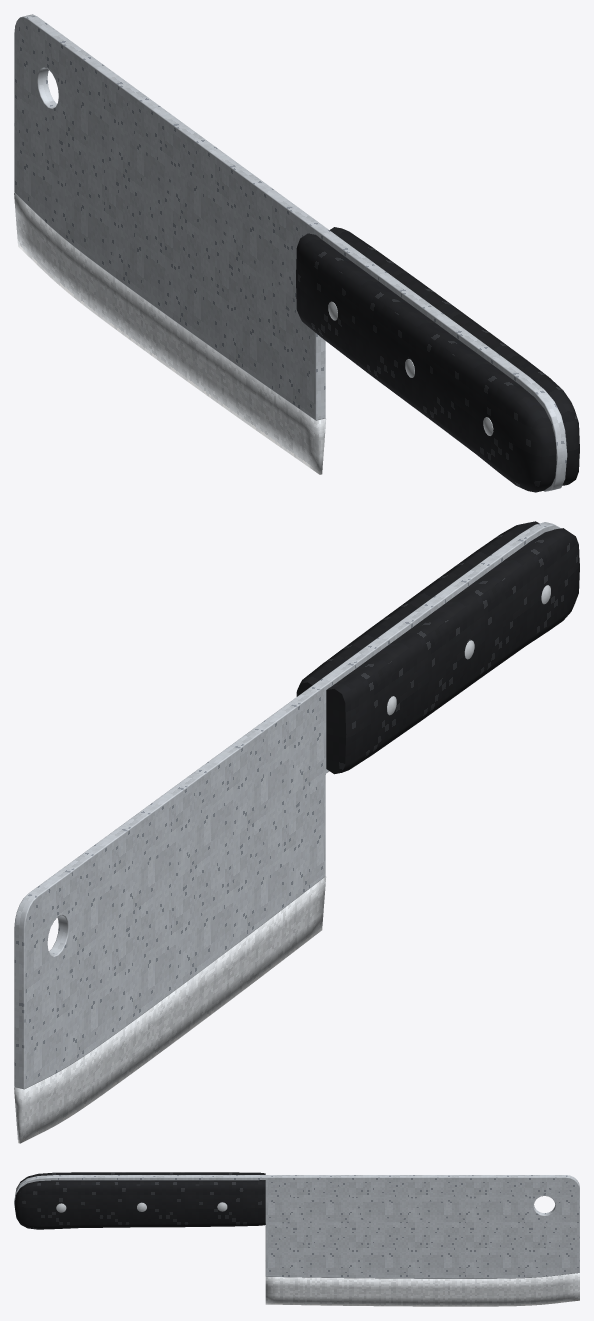
File: w_knife_cleaver.glb
3 renders of one model, top to bottom at view 1: azimuth 30°, elevation 25°; view 2: azimuth 150°, elevation 25°; view 3: azimuth 270°, elevation 25°, orthographic. The views are drawn at different scales.
Visible parts, largest first — view 1: kcleaver_blade_wzB, kcleaver_grip_wzA; view 2: kcleaver_blade_wzB, kcleaver_grip_wzA; view 3: kcleaver_blade_wzB, kcleaver_grip_wzA, kcleaver_rivets_wzN.
Boxes of the visible parts, x1,y1,x2,y2 form: kcleaver_blade_wzB: (14,14,567,491); kcleaver_grip_wzA: (296,227,579,492); kcleaver_blade_wzB: (14,522,560,1143); kcleaver_grip_wzA: (296,521,579,774); kcleaver_blade_wzB: (14,1175,579,1306); kcleaver_grip_wzA: (15,1172,265,1229); kcleaver_rivets_wzN: (56,1202,227,1212).
Size of the model in its own units: 0.0196 by 0.0732 by 0.2881.
4 materials, 4 textured.
